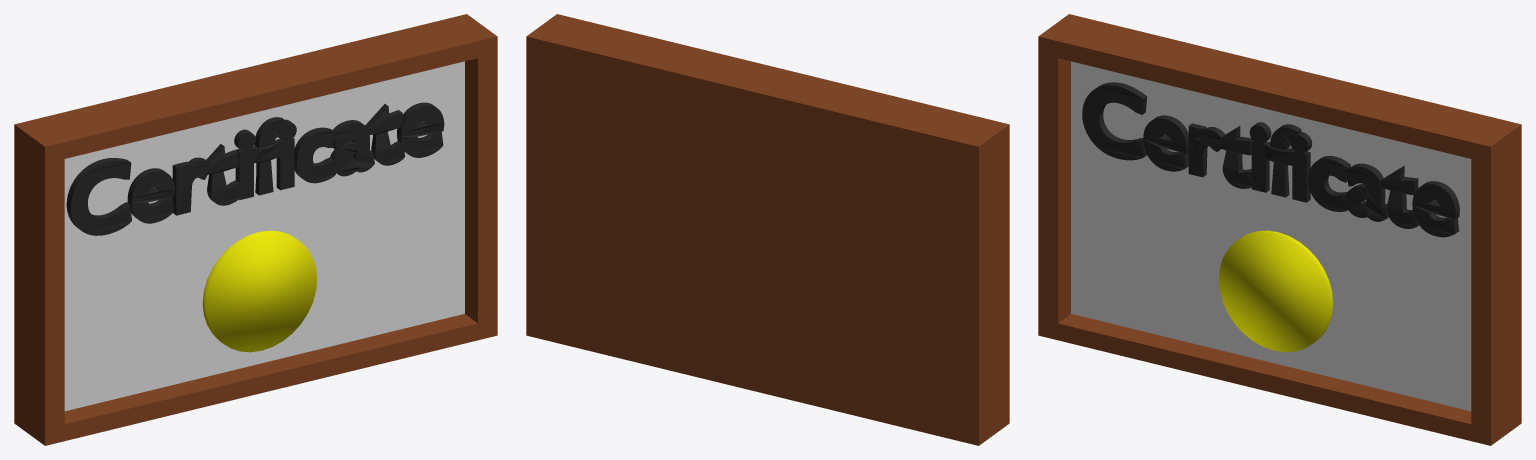
The model's file is Certificate_1.fbx.
3 renders of one model, left to right at view 1: azimuth 30°, elevation 25°; view 2: azimuth 150°, elevation 25°; view 3: azimuth 330°, elevation 25°, orthographic.
Parts seen in each view (by area): view 1: Cube; view 2: Cube; view 3: Cube.
Boxes of the visible parts, x1,y1,x2,y2 form: Cube: [14, 14, 497, 445]; Cube: [526, 14, 1009, 445]; Cube: [1038, 14, 1521, 445].
Size of the model in its own units: 78.57 by 49.63 by 9.24.
